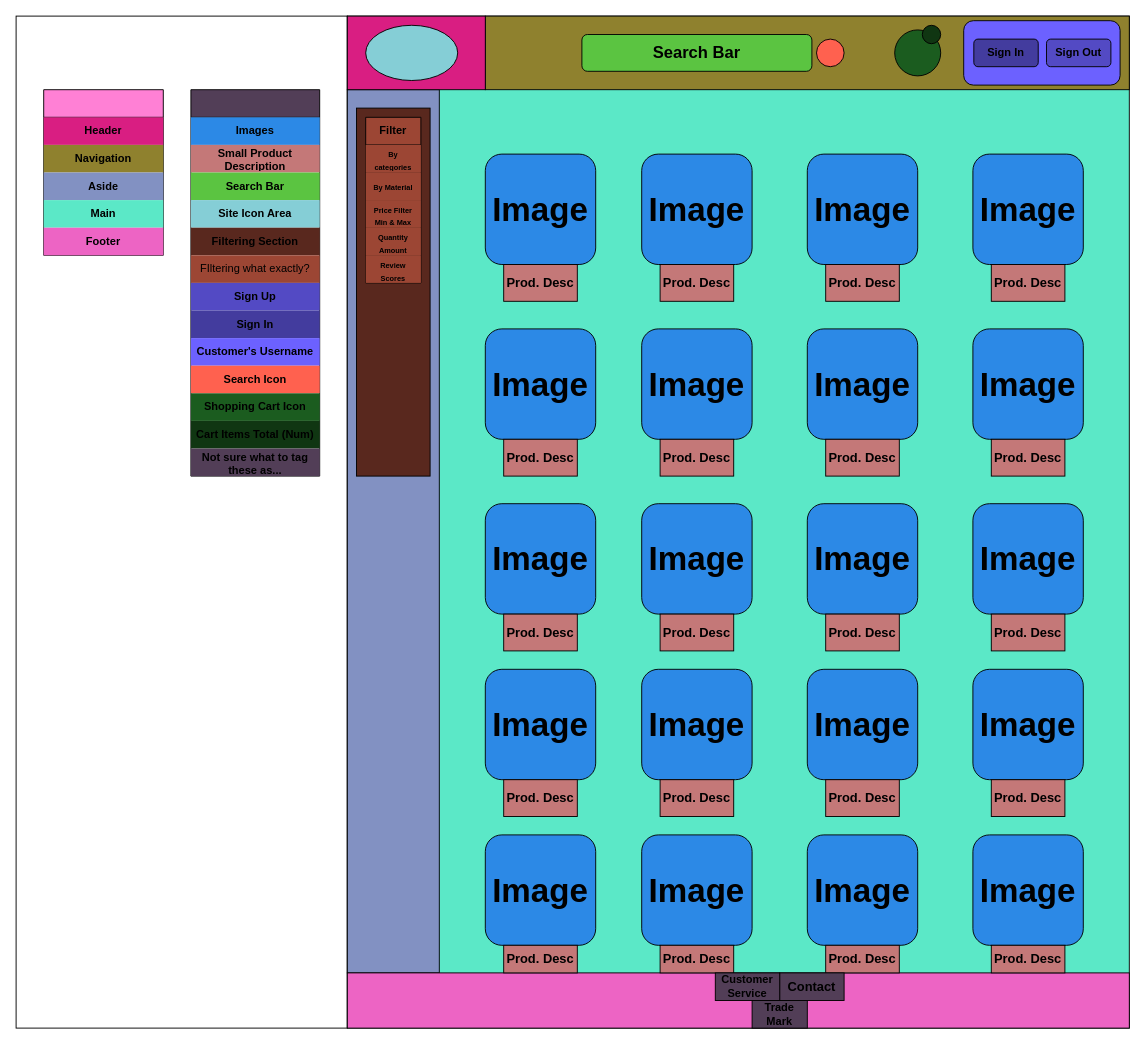
Image size: 1145x1044. Some labels were removed from this diagram. The box of each missing label's shape, as (x1, y1, x2, y2) in pixels:
Cart: (894, 29, 941, 76)
Site Icon: (365, 24, 458, 80)
Site Layout: (43, 89, 163, 255)
Username: (963, 20, 1120, 85)
What does the colors mean?: (190, 89, 320, 476)
